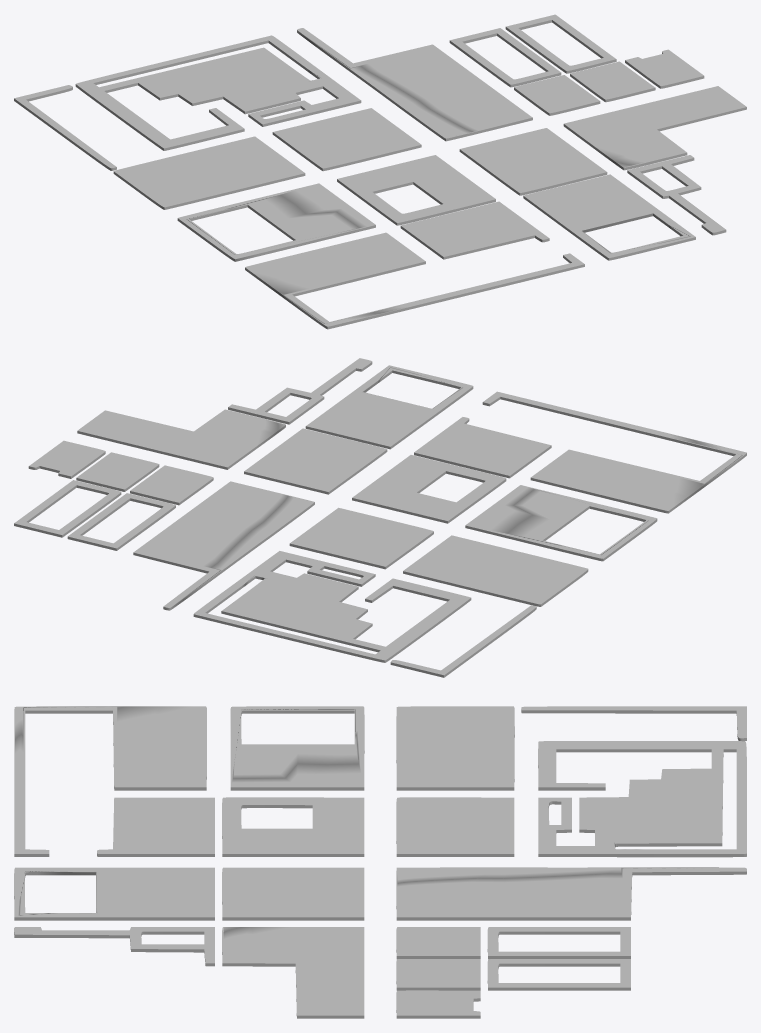
Rendered from Sidewalk.fbx.
3 renders of one model, top to bottom at view 1: azimuth 30°, elevation 25°; view 2: azimuth 150°, elevation 25°; view 3: azimuth 270°, elevation 25°, orthographic. The views are drawn at different scales.
Visible parts, largest first — view 1: Sidewalk; view 2: Sidewalk; view 3: Sidewalk.
Boxes of the visible parts, <box> form: Sidewalk: <box>14,14,746,329</box>; Sidewalk: <box>14,358,746,677</box>; Sidewalk: <box>14,706,746,1018</box>.
Bounding box in the file's own units: 21467 × 100 × 21510.
Materials: 1 (1 with a texture image).
